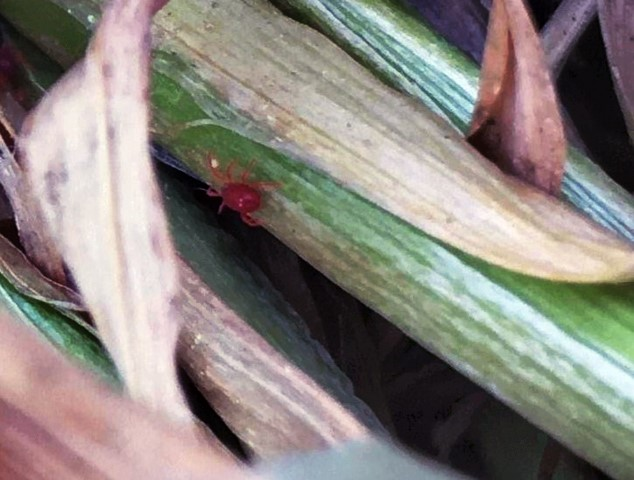Wheat Red Spider: (183, 143, 298, 238)
